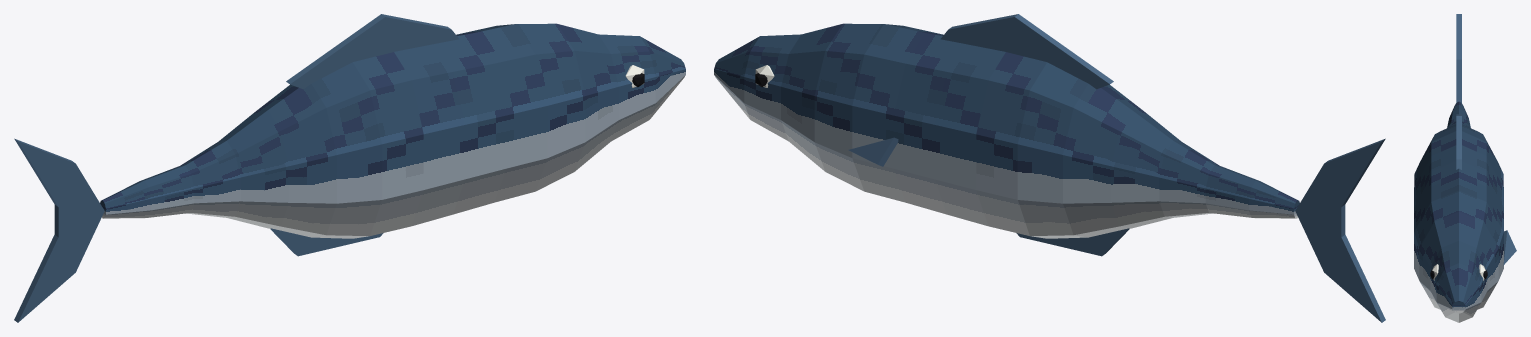
Rendered from bonito.glb.
3 renders of one model, left to right at view 1: azimuth 30°, elevation 25°; view 2: azimuth 150°, elevation 25°; view 3: azimuth 270°, elevation 25°, orthographic. The views are drawn at different scales.
Visible parts, largest first — view 1: fish_bonito; view 2: fish_bonito; view 3: fish_bonito.
Boxes of the visible parts, x1,y1,x2,y2 form: fish_bonito: (14, 14, 685, 322); fish_bonito: (714, 14, 1385, 322); fish_bonito: (1414, 14, 1516, 322).
Size of the model in its own units: 1.15 by 0.3617 by 0.2178.
4 materials, 1 textured.
